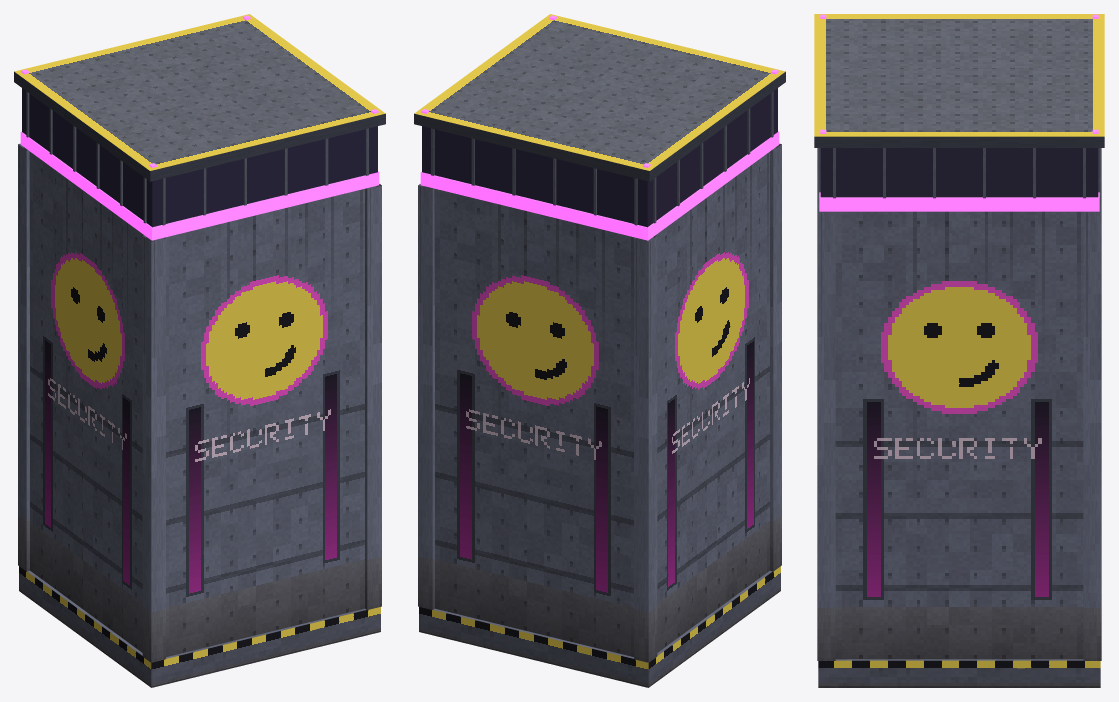
File: p_jb_cornertower.glb
3 renders of one model, left to right at view 1: azimuth 30°, elevation 25°; view 2: azimuth 150°, elevation 25°; view 3: azimuth 270°, elevation 25°, orthographic. The views are drawn at different scales.
Parts seen in each view (by area): view 1: p_jb_cornertower_lod0; view 2: p_jb_cornertower_lod0; view 3: p_jb_cornertower_lod0.
Boxes of the visible parts, x1,y1,x2,y2 form: p_jb_cornertower_lod0: (14,14,385,687); p_jb_cornertower_lod0: (414,14,785,687); p_jb_cornertower_lod0: (814,14,1104,687).
Size of what is drawn, in the model's own units: 11.6 by 24.48 by 11.6.
Materials: 3 (1 with a texture image).
